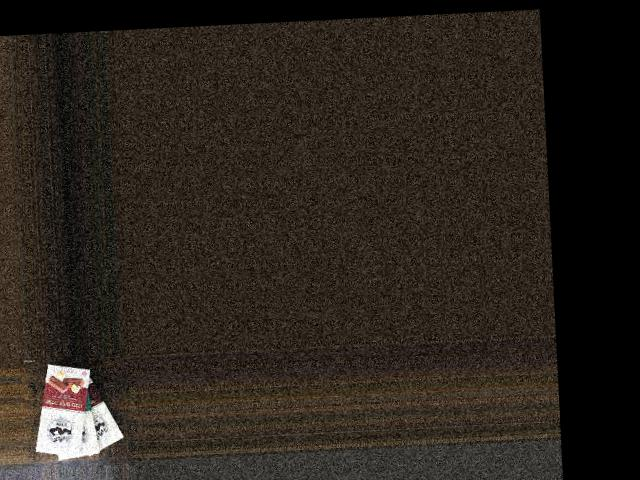chocolate: (61, 361, 125, 459)
